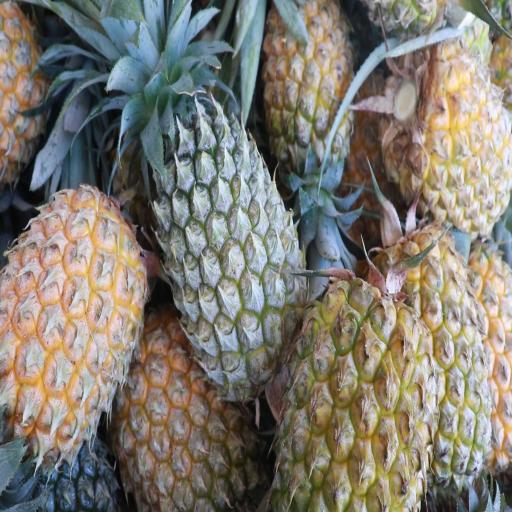------------------------------: (262, 0, 356, 192)
Pineapple - v8 v1: (0, 190, 144, 444), (279, 288, 429, 512), (374, 236, 487, 474), (117, 323, 258, 511), (385, 35, 512, 221)
